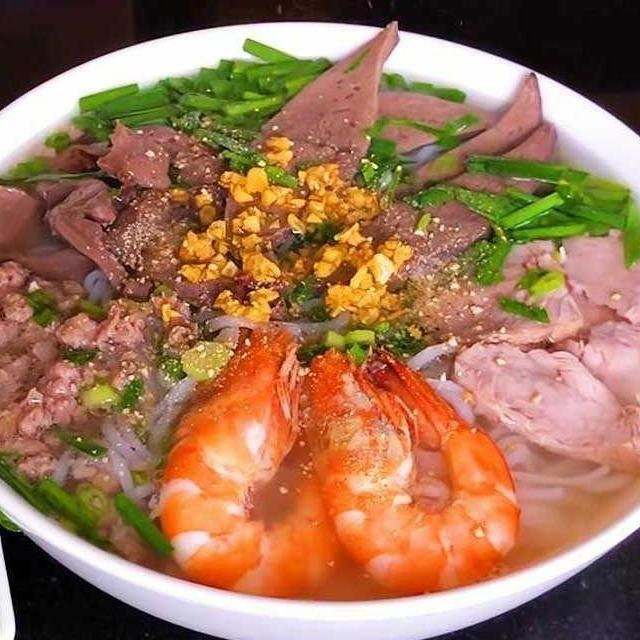banh hu tieu: (45, 354, 204, 522), (472, 410, 638, 550)
hu tieu: (0, 49, 640, 640)
thit bam: (0, 248, 175, 483)
thit heo: (443, 329, 640, 483), (410, 228, 586, 358), (537, 308, 640, 417), (543, 221, 640, 332)
tom: (286, 338, 528, 602), (150, 318, 352, 608)
